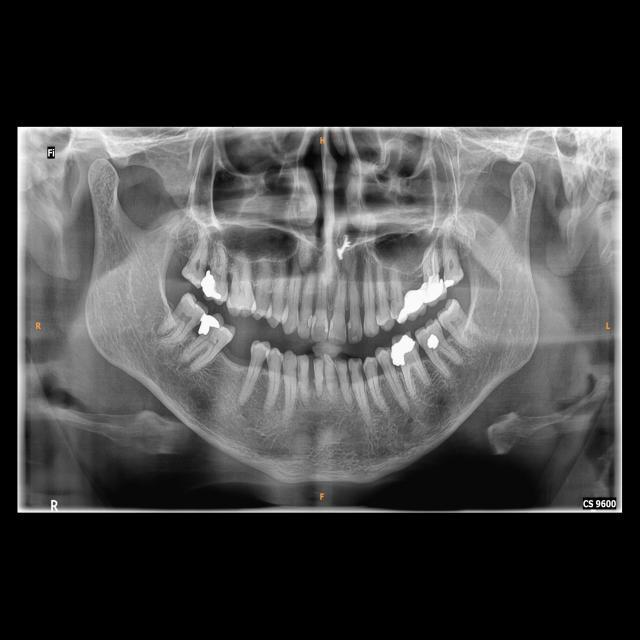dolgu: (203, 264, 230, 305), (198, 313, 230, 347), (388, 336, 421, 366), (422, 330, 445, 353)
kanal-tedavisi: (422, 247, 443, 277)
kaplama: (420, 275, 446, 302)
kopru: (394, 283, 432, 316)
